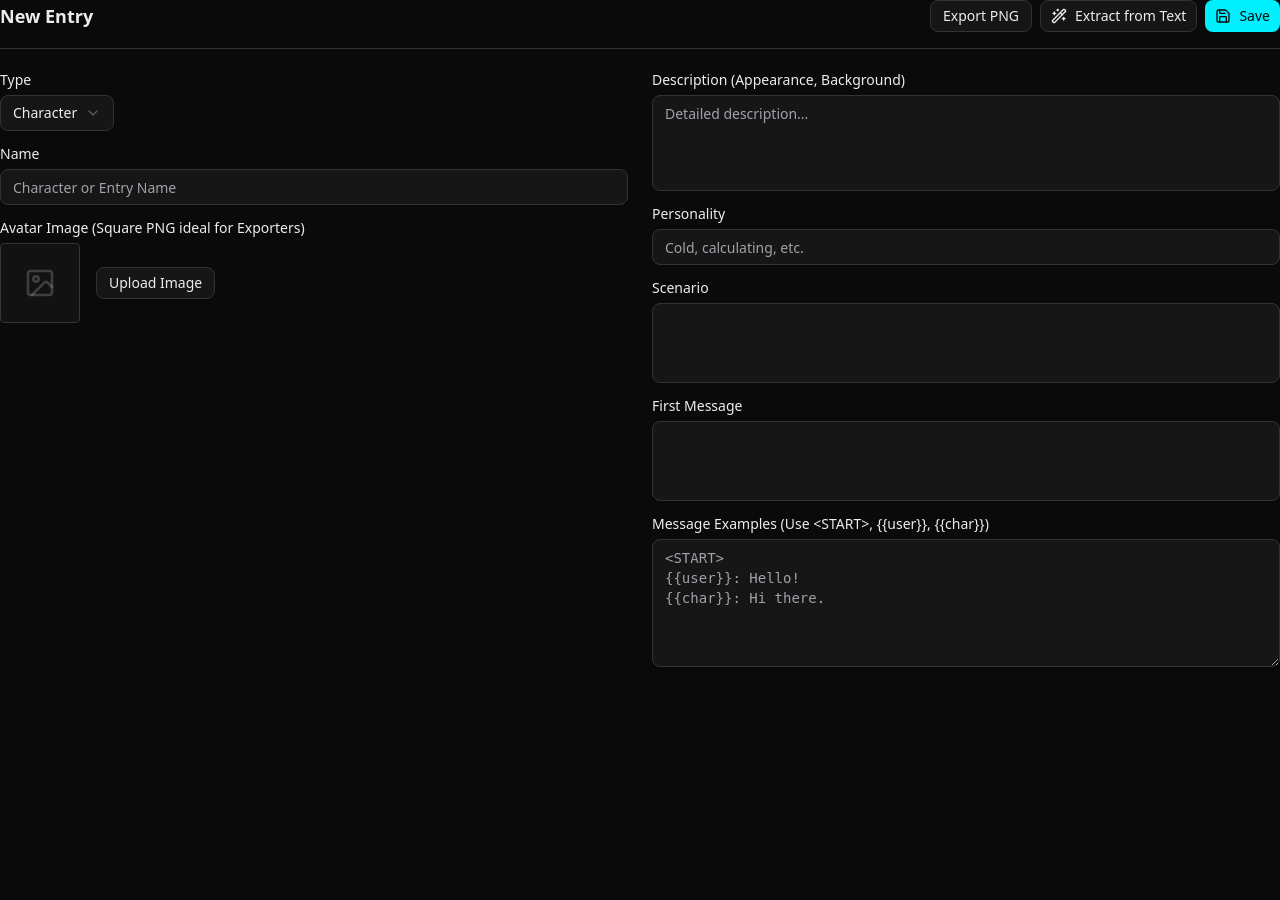
CardEditor extraction dialog › shows editable raw output fallback when parse fails
Click the button "Extract from Text". click: point(1119, 16)
box: [1040,0,1197,32]
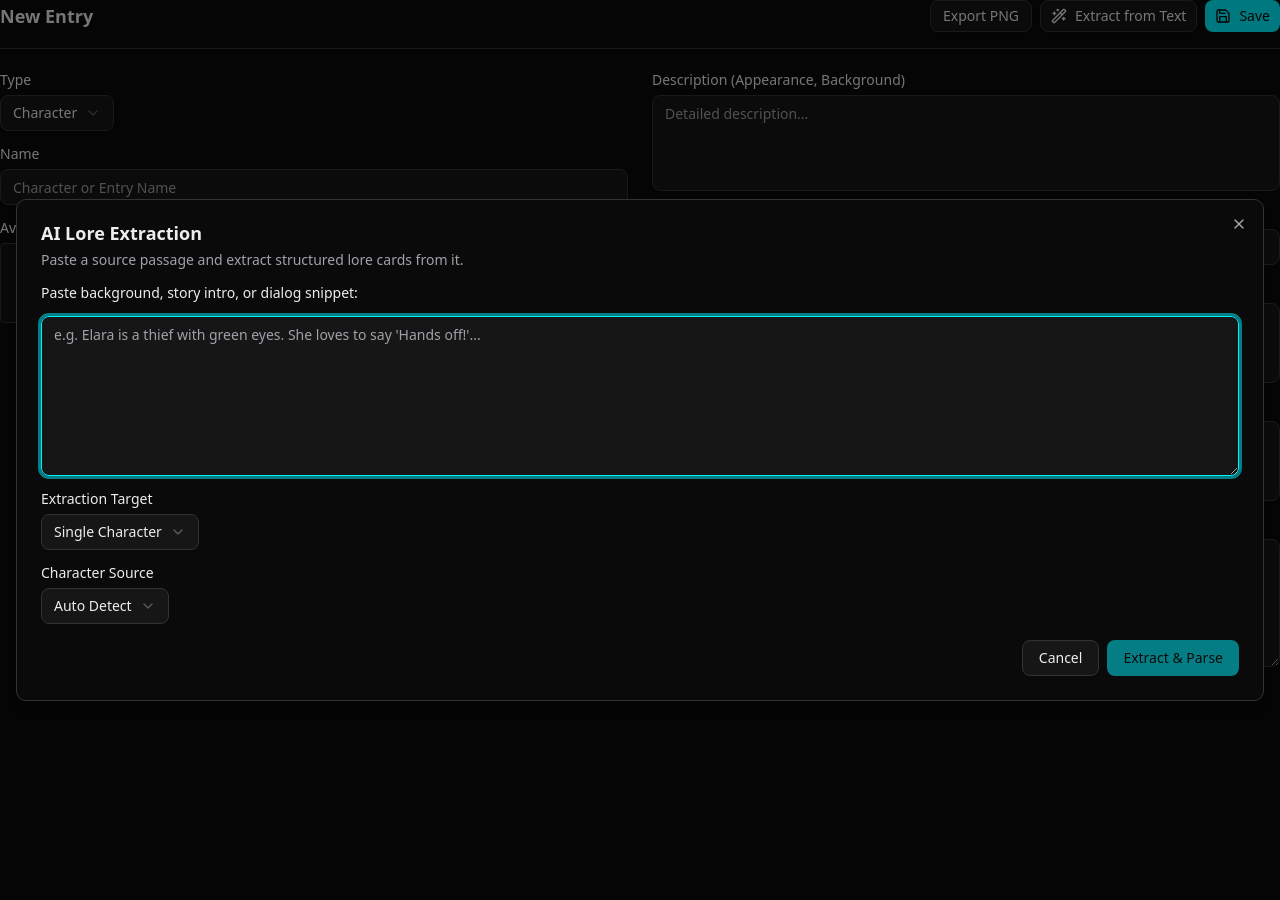
Replace the text in the text box with placeholder "e.g. Elara is a thief" with "Some long novel context". click: point(640, 396)
box: [41,316,1239,476]
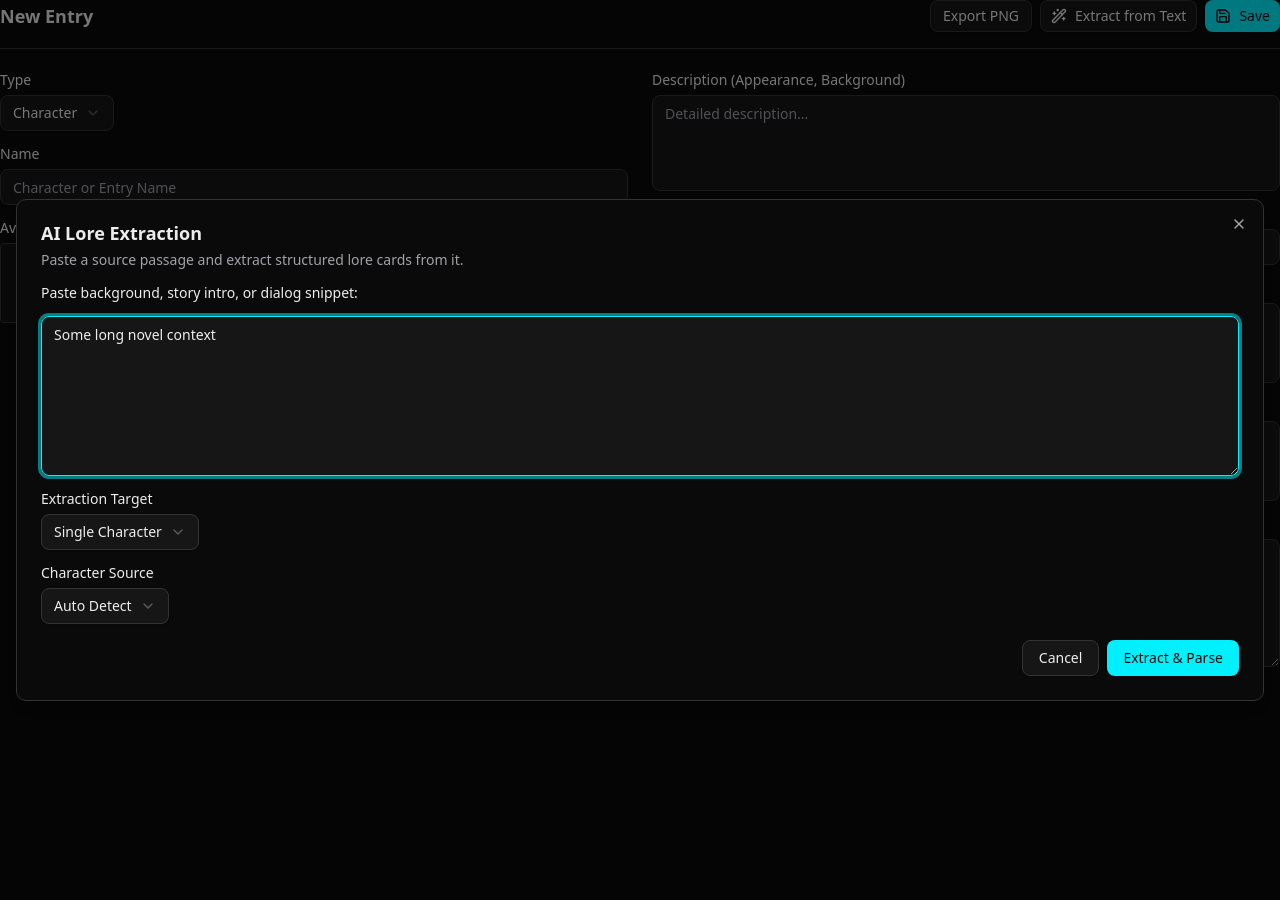
Click the button "Extract & Parse". click: point(1173, 658)
box: [1107,640,1239,676]
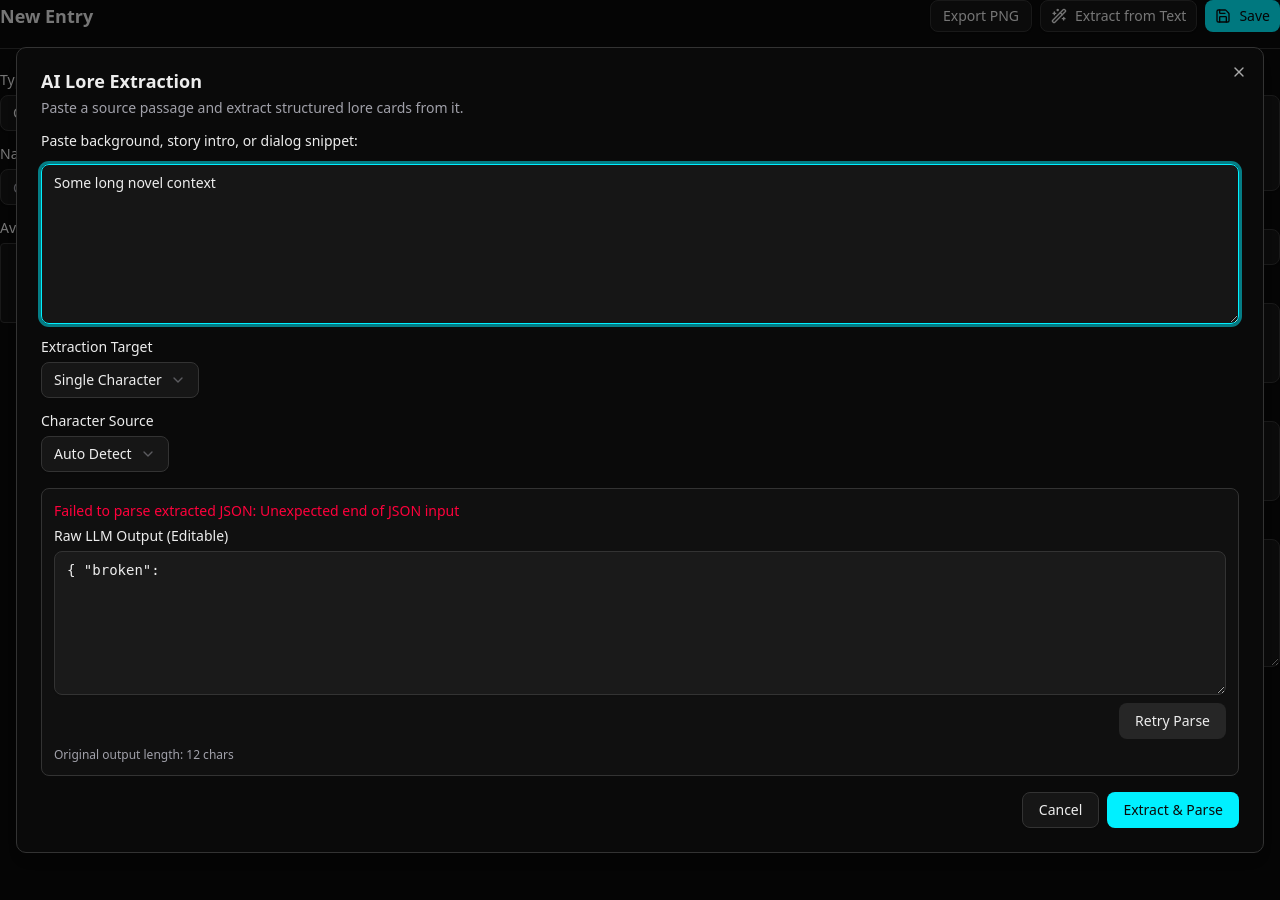
Now the text "Raw LLM Output (Editable)" is shown, box [54,526,228,545]
Now the button "Retry Parse" is shown, box [1119,703,1226,739]
